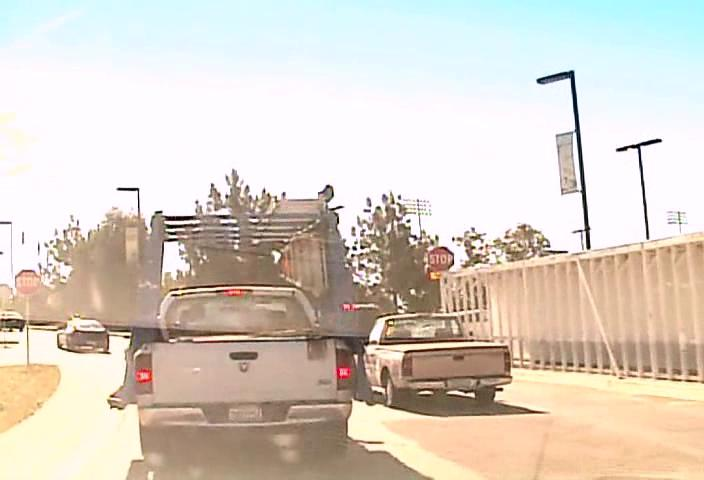stop: (426, 246, 453, 274)
